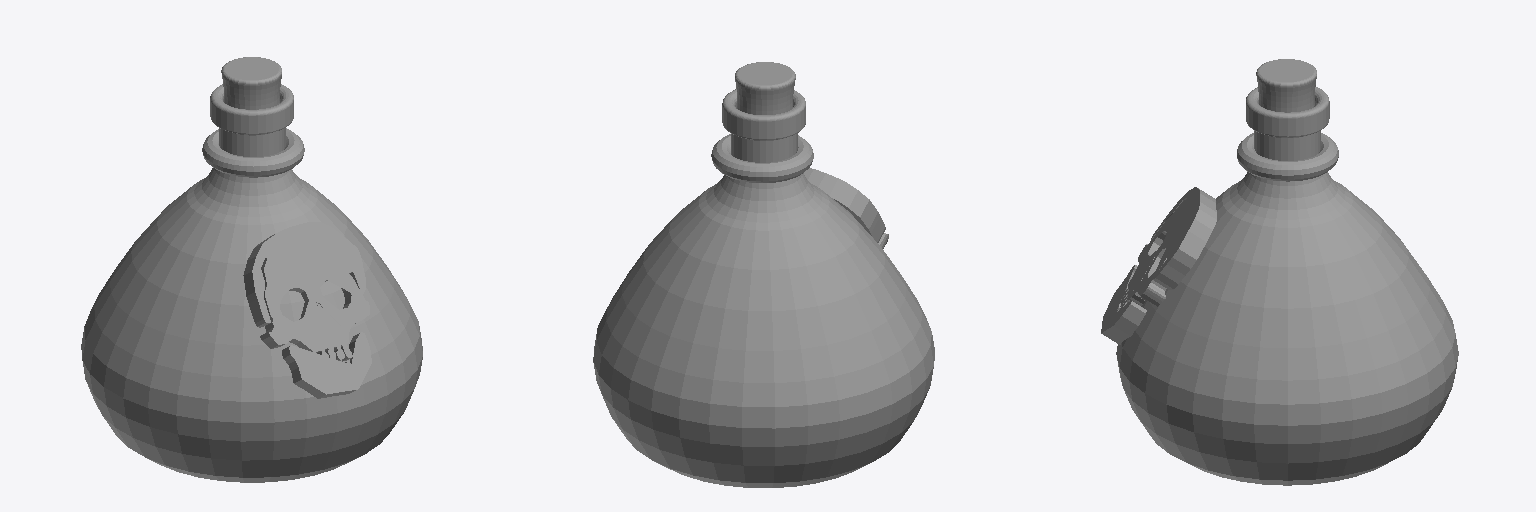
File: Poison_Potion.obj
3 views of the same model, side by side, from view 1: azimuth 30°, elevation 25°; view 2: azimuth 150°, elevation 25°; view 3: azimuth 270°, elevation 25° (orthographic).
Visible parts, largest first — view 1: bottle_Sphere, _______________12, cork_Cylinder, Torus; view 2: bottle_Sphere, cork_Cylinder, Torus, _______________12; view 3: bottle_Sphere, _______________12, cork_Cylinder, Torus.
Part boxes in pixels (bbox=[...]): bottle_Sphere: bbox=[81, 84, 422, 482]; _______________12: bbox=[243, 222, 371, 398]; cork_Cylinder: bbox=[221, 57, 281, 109]; Torus: bbox=[202, 128, 304, 177]; bottle_Sphere: bbox=[593, 89, 934, 487]; cork_Cylinder: bbox=[735, 62, 795, 114]; Torus: bbox=[711, 134, 813, 182]; _______________12: bbox=[804, 168, 888, 248]; bottle_Sphere: bbox=[1116, 87, 1458, 485]; _______________12: bbox=[1101, 187, 1216, 344]; cork_Cylinder: bbox=[1256, 59, 1316, 112]; Torus: bbox=[1237, 133, 1338, 181].
Bounding box in the file's own units: 2 × 2.38 × 2.09.